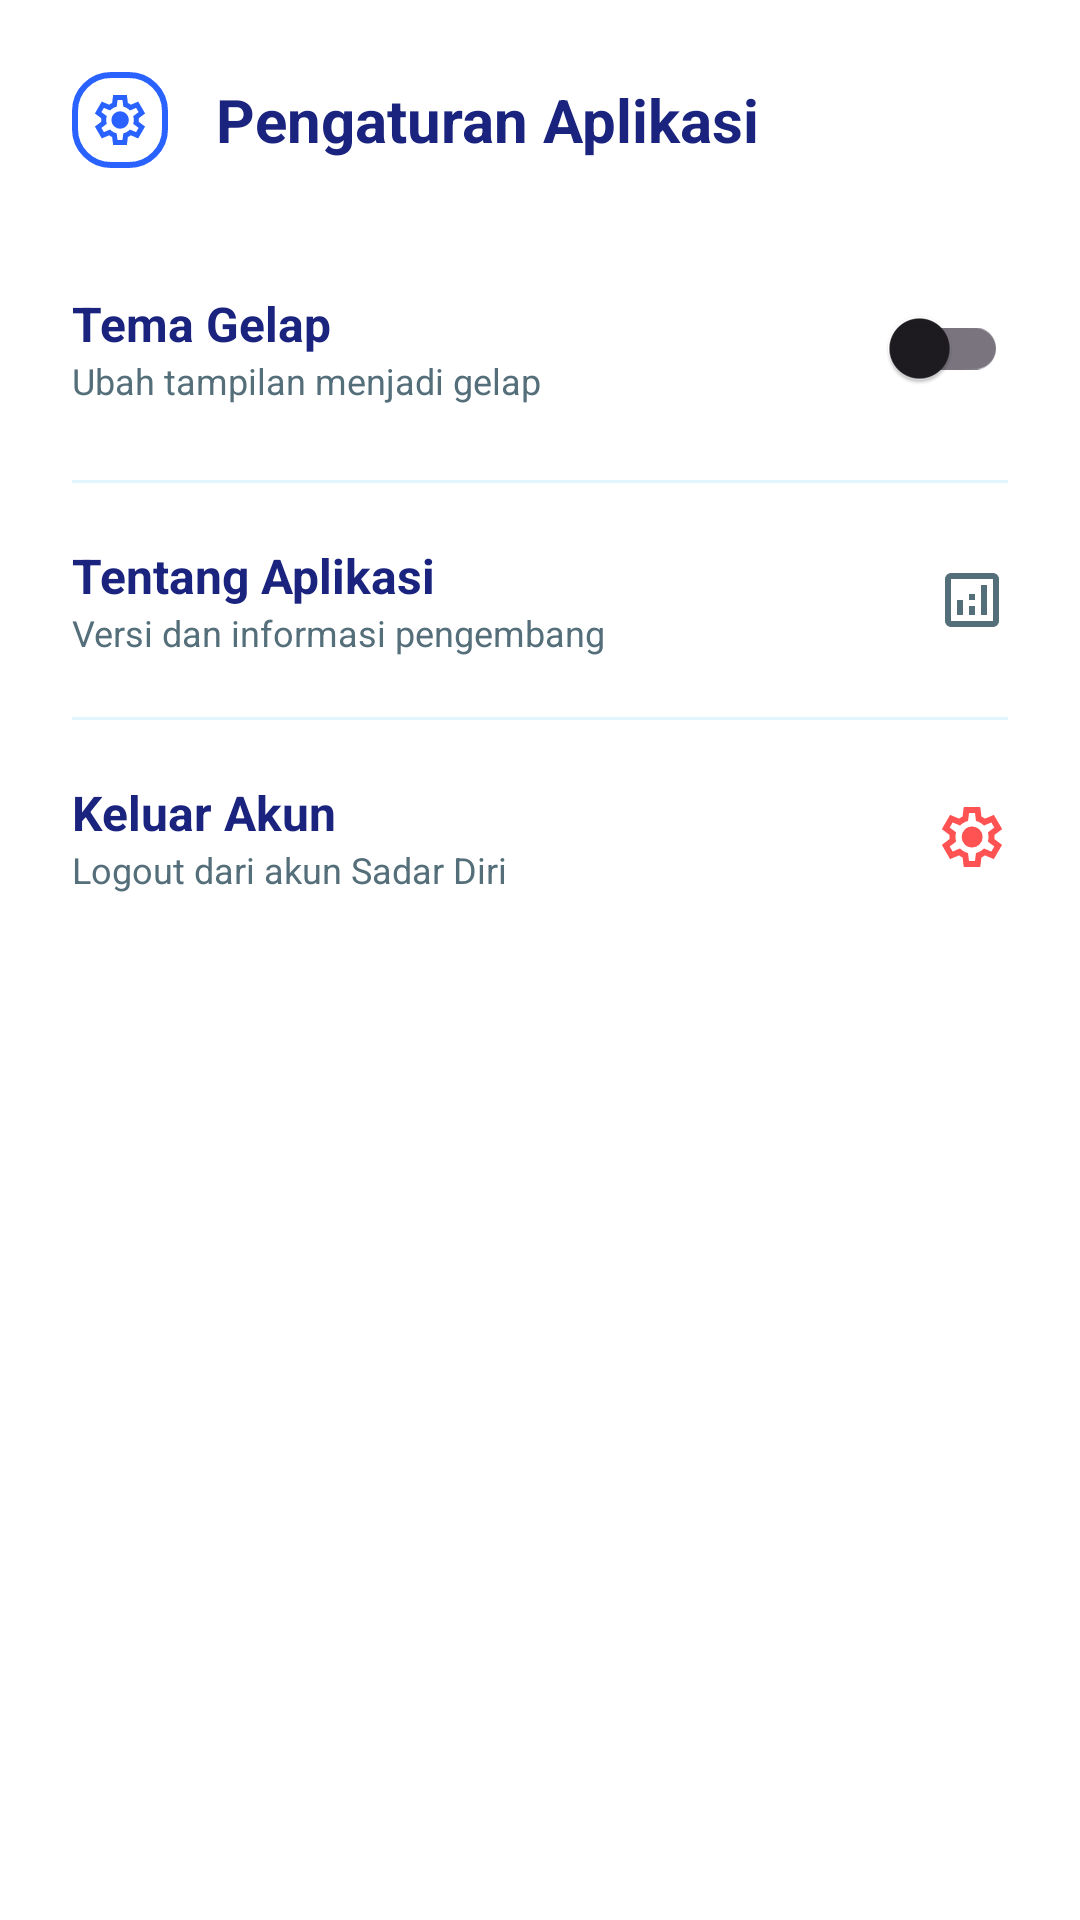

Screen size 1080w x 1920h. Icon name, then its center in pixels as (x,y):
reports rounded: (972,600)
settings: (120,120), (972,837)
